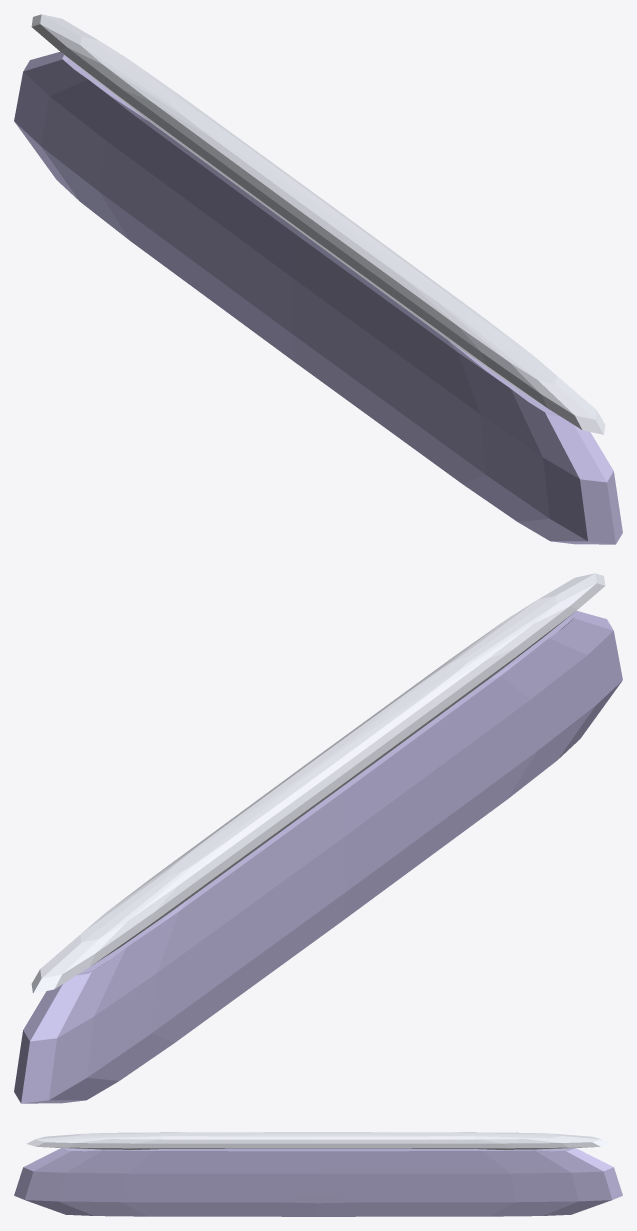
File: h10_snow_walls_w.fbx
3 views of the same model, one above another, from view 1: azimuth 30°, elevation 25°; view 2: azimuth 150°, elevation 25°; view 3: azimuth 270°, elevation 25° (orthographic). The views are drawn at different scales.
Visible parts, largest first — view 1: h10_snow_walls_w__SnowShadow, h10_snow_walls_w__Snow; view 2: h10_snow_walls_w__SnowShadow, h10_snow_walls_w__Snow; view 3: h10_snow_walls_w__SnowShadow, h10_snow_walls_w__Snow.
Part boxes in pixels (box(x1,y1,x2,y2)): h10_snow_walls_w__SnowShadow: box(14, 51, 622, 544); h10_snow_walls_w__Snow: box(31, 14, 605, 434); h10_snow_walls_w__SnowShadow: box(14, 610, 622, 1103); h10_snow_walls_w__Snow: box(31, 573, 605, 993); h10_snow_walls_w__SnowShadow: box(14, 1148, 622, 1216); h10_snow_walls_w__Snow: box(27, 1132, 610, 1149).
Bounding box in the file's own units: 1.49 × 4 × 28.69.
